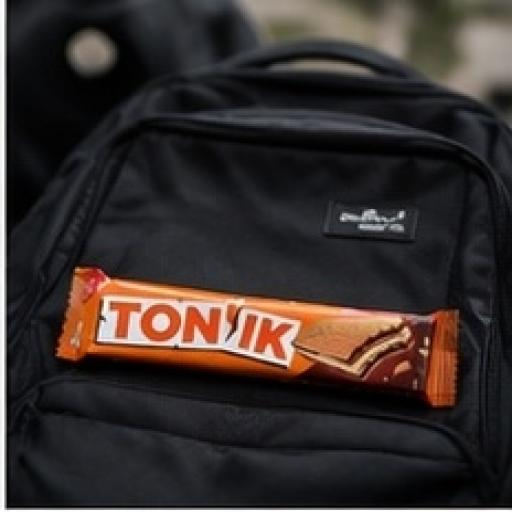tonik: (45, 194, 481, 440)
